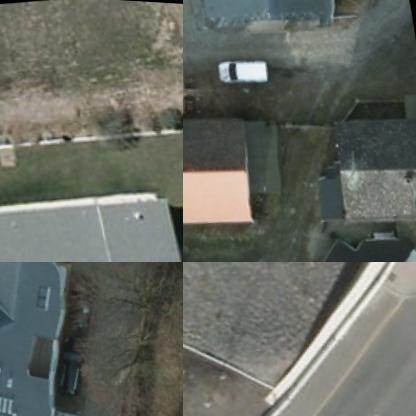car: (49, 336, 96, 400), (218, 52, 272, 90)
